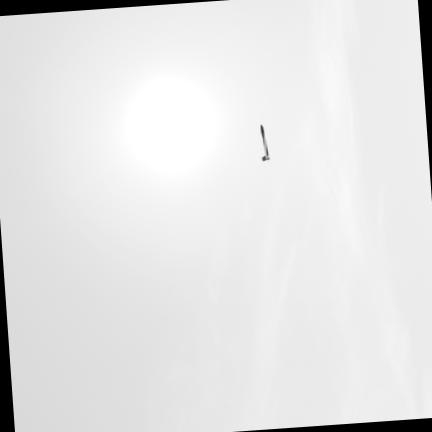Shahed: (260, 124, 269, 158)
